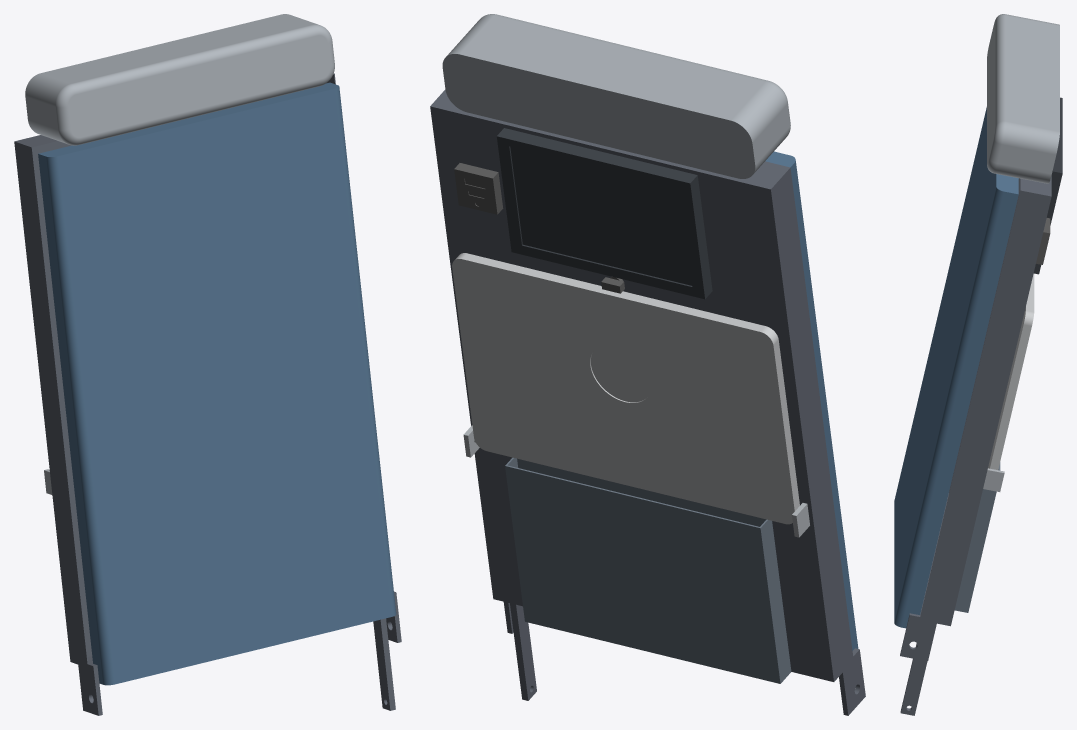
The model's file is step_06.glb.
3 views of the same model, side by side, from view 1: azimuth 30°, elevation 25°; view 2: azimuth 150°, elevation 25°; view 3: azimuth 270°, elevation 25° (orthographic). The views are drawn at different scales.
Parts seen in each view (by area): view 1: part__back cushion cover, part__head rest, part__back shell; view 2: part__tray table, part__back shell, part__literature pocket, part__head rest, part__entertainment screen, part__back cushion cover, part__power and audio module; view 3: part__back cushion cover, part__back shell, part__head rest, part__tray table, part__literature pocket, part__entertainment screen, part__tray hinge arm, right, part__power and audio module.
Part boxes in pixels (bbox=[...]): part__back cushion cover: bbox=[38, 82, 396, 685]; part__head rest: bbox=[25, 14, 334, 145]; part__back shell: bbox=[14, 73, 401, 715]; part__tray table: bbox=[452, 253, 799, 524]; part__back shell: bbox=[430, 89, 865, 715]; part__literature pocket: bbox=[505, 457, 791, 683]; part__head rest: bbox=[442, 14, 790, 178]; part__entertainment screen: bbox=[496, 128, 712, 299]; part__back cushion cover: bbox=[765, 151, 858, 650]; part__power and audio module: bbox=[454, 163, 503, 214]; part__back cushion cover: bbox=[894, 107, 1018, 628]; part__back shell: bbox=[900, 176, 1051, 715]; part__head rest: bbox=[987, 14, 1059, 183]; part__tray table: bbox=[988, 273, 1034, 469]; part__literature pocket: bbox=[954, 462, 1000, 612]; part__entertainment screen: bbox=[1034, 97, 1062, 274]; part__tray hinge arm, right: bbox=[983, 468, 1004, 491]; part__power and audio module: bbox=[1036, 218, 1050, 264].
Size of the model in its own units: 440 by 903 by 236.
